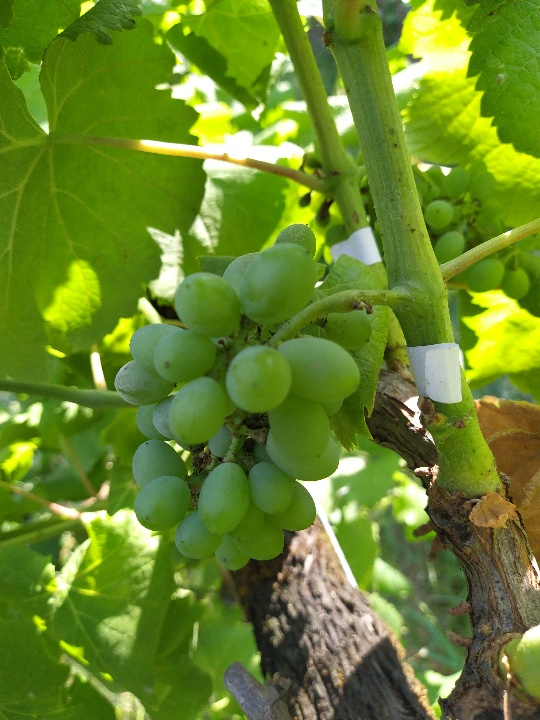grape: (111, 221, 374, 578)
